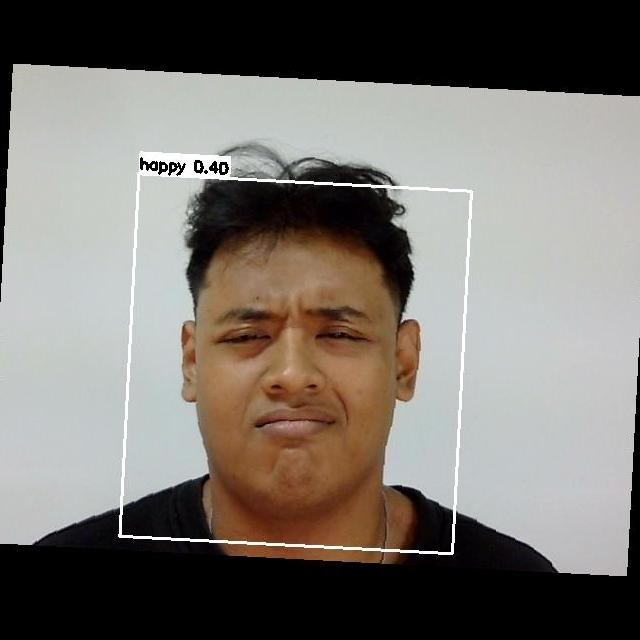Disgust: (198, 291, 390, 462)
